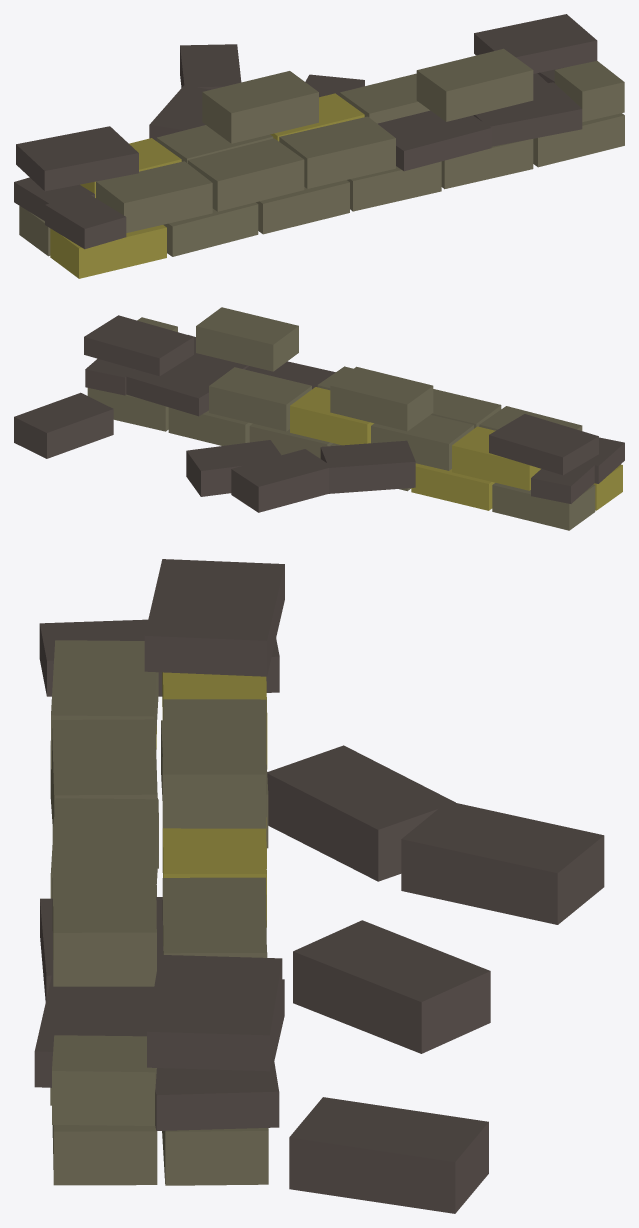
The model's file is SM_PretilTramo_v2_Irregular_e2_MuyDanado_LOD0.fbx.
3 views of the same model, one above another, from view 1: azimuth 30°, elevation 25°; view 2: azimuth 150°, elevation 25°; view 3: azimuth 270°, elevation 25° (orthographic). The views are drawn at different scales.
Visible parts, largest first — view 1: SM_pretil_azotea_v10_LOD0; view 2: SM_pretil_azotea_v10_LOD0; view 3: SM_pretil_azotea_v10_LOD0.
Boxes of the visible parts, x1,y1,x2,y2 form: SM_pretil_azotea_v10_LOD0: (14,14,624,278); SM_pretil_azotea_v10_LOD0: (14,307,624,530); SM_pretil_azotea_v10_LOD0: (34,559,604,1213).
Size of the model in its own units: 5.37 by 0.885 by 2.59.
